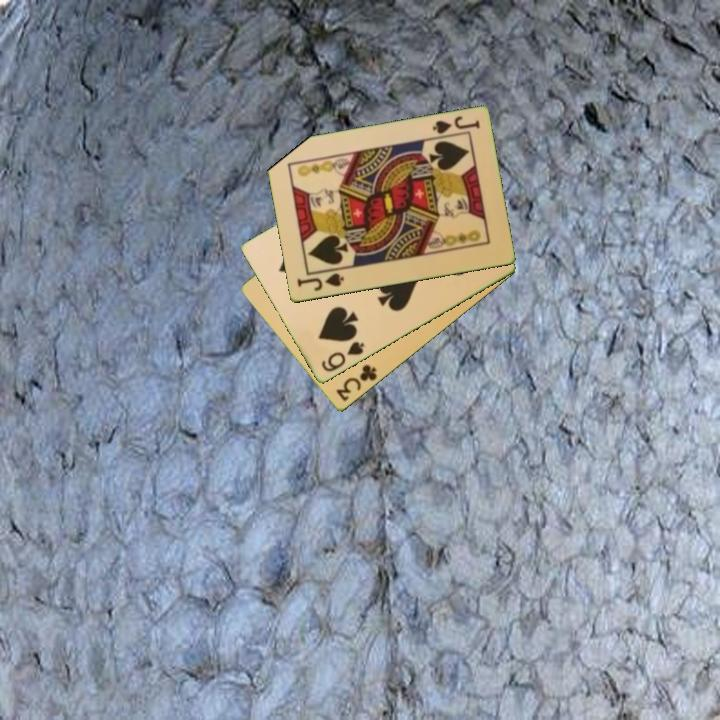3c: (332, 361, 380, 404)
6s: (317, 338, 367, 375)
Js: (429, 113, 483, 141), (293, 270, 347, 294)
